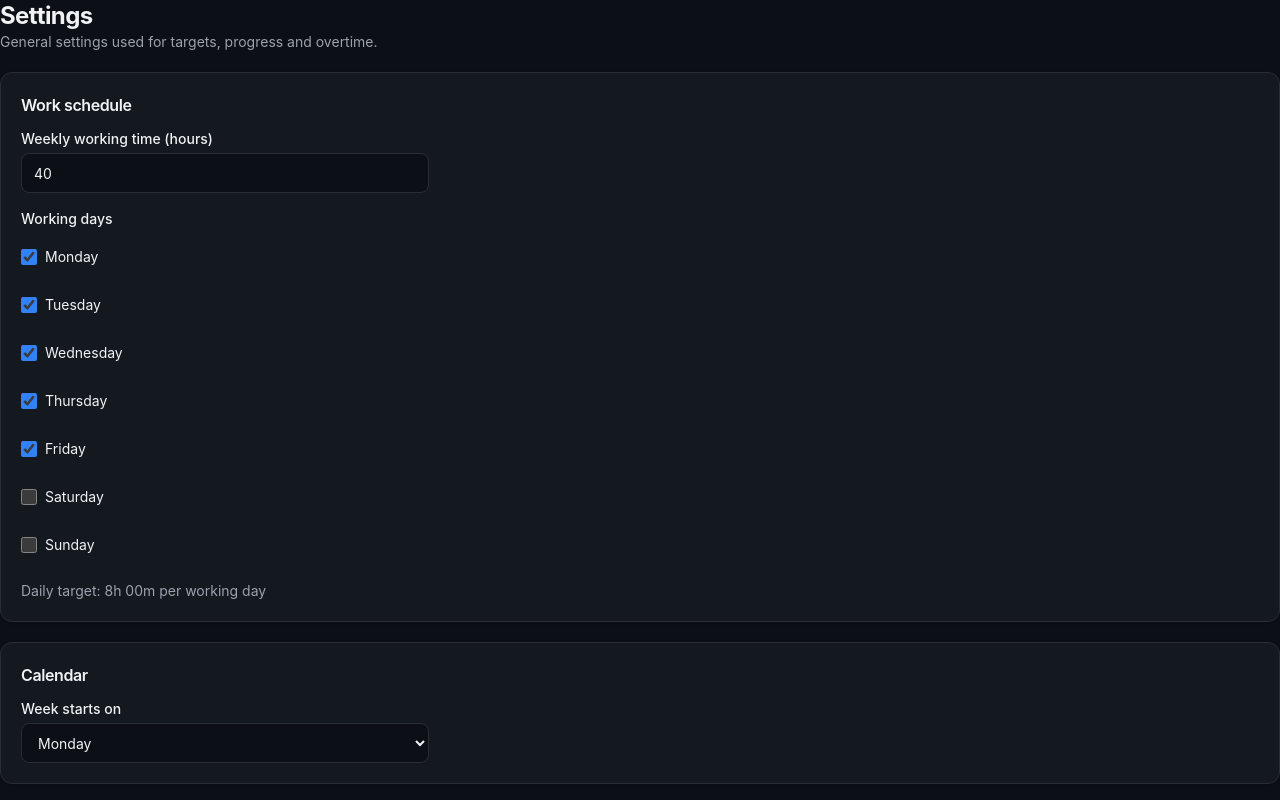
it: SettingsPage › shows error for invalid weekly target (0 hours)
Expected: the heading "Work schedule" is shown, left=21, top=93, right=132, bottom=117
Replace the text in the number field labelled "Weekly working time (hours)" with "0". click: (225, 173)
box: left=21, top=153, right=429, bottom=193
(page scrolled)
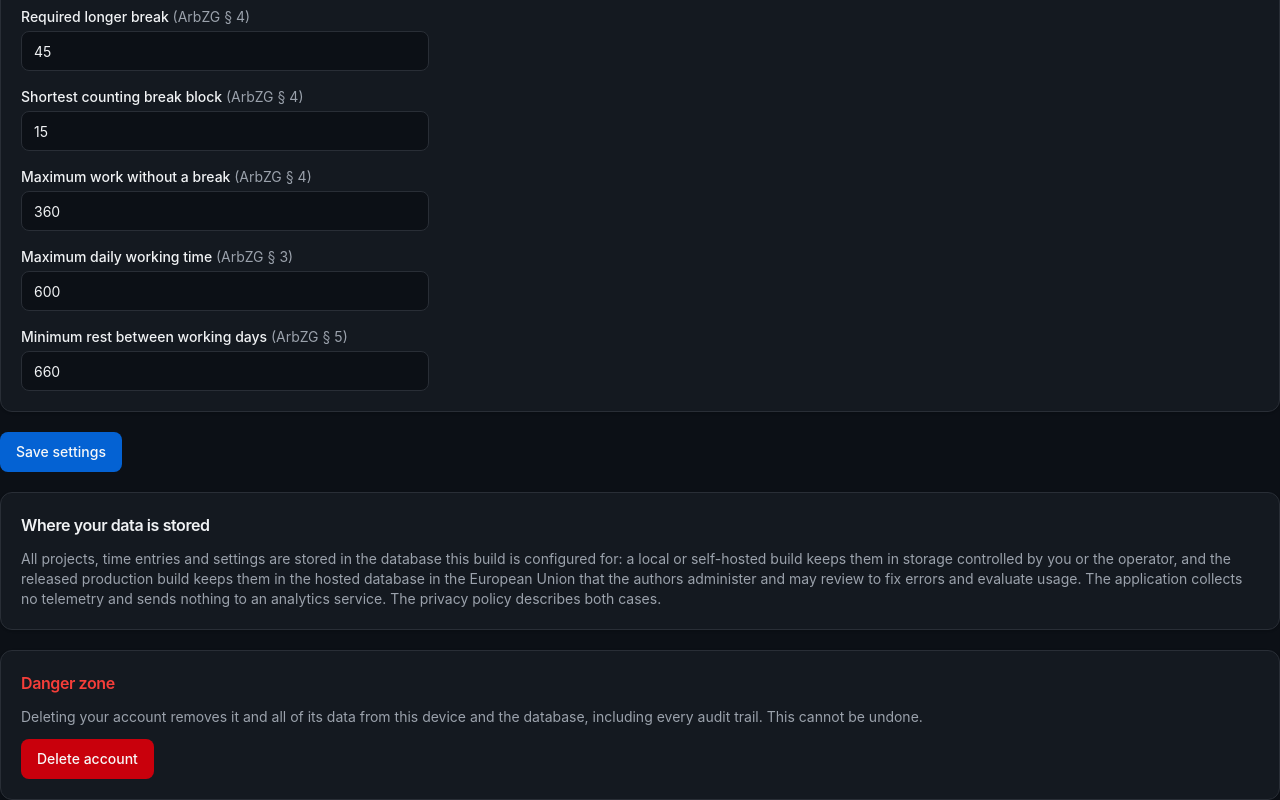
Click the button "Save settings". click: (61, 452)
box: left=0, top=432, right=122, bottom=472
(page scrolled)
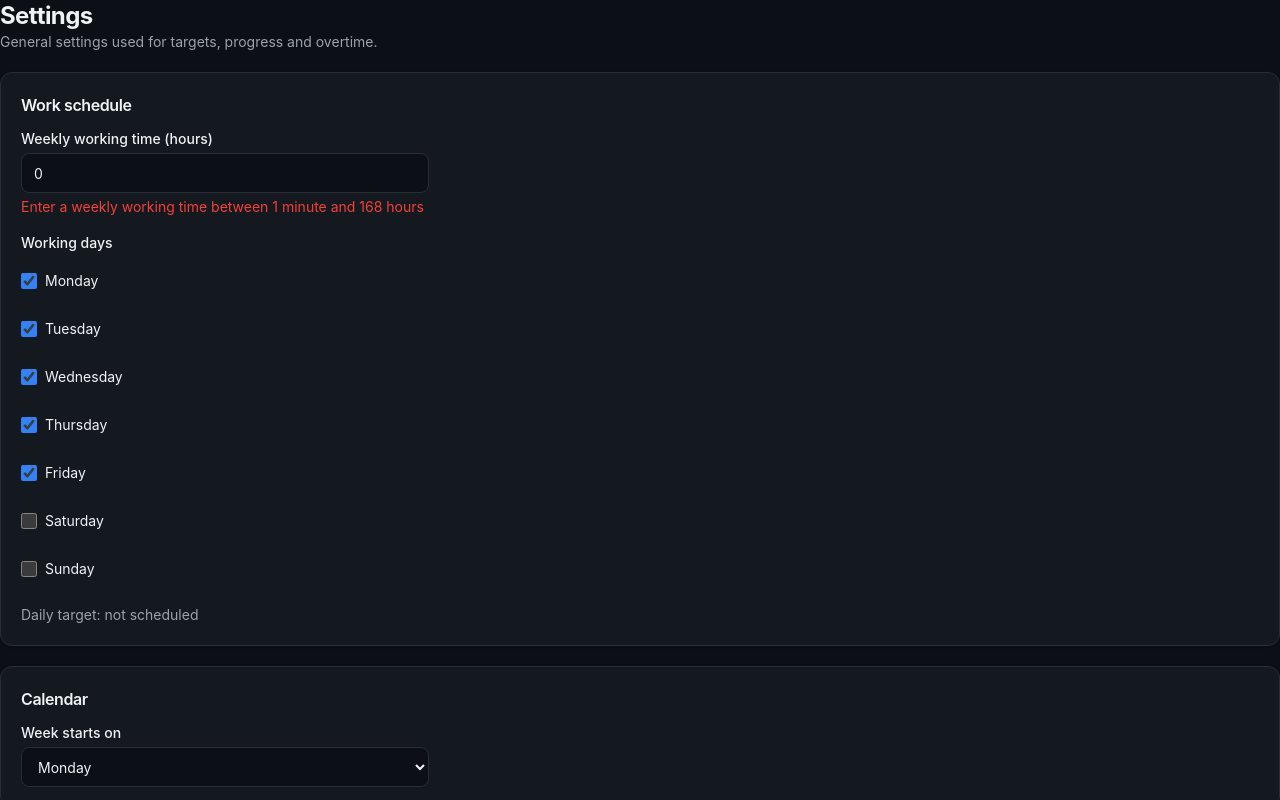
Result: the message shows "1 minute and 168 hours" at left=21, top=198, right=424, bottom=215
